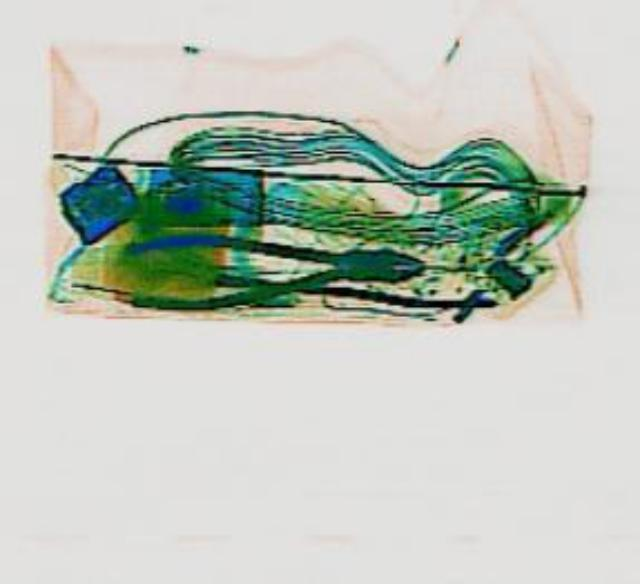Pliers: (118, 225, 424, 305)
